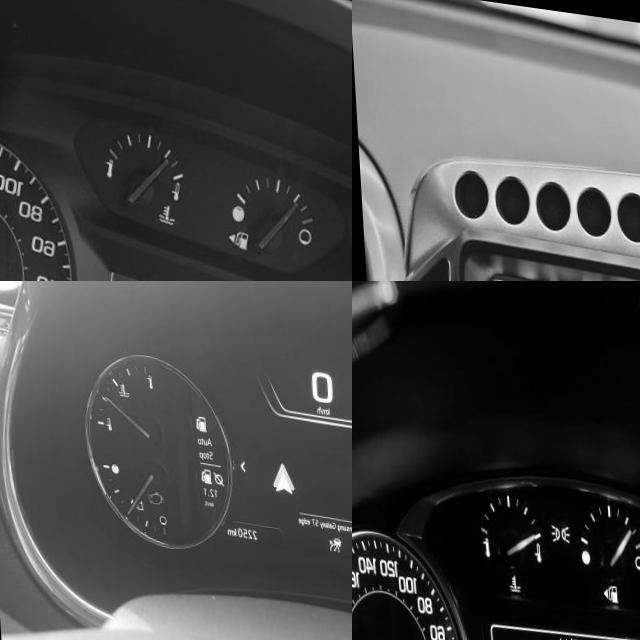SideLamp: (548, 512, 568, 534)
